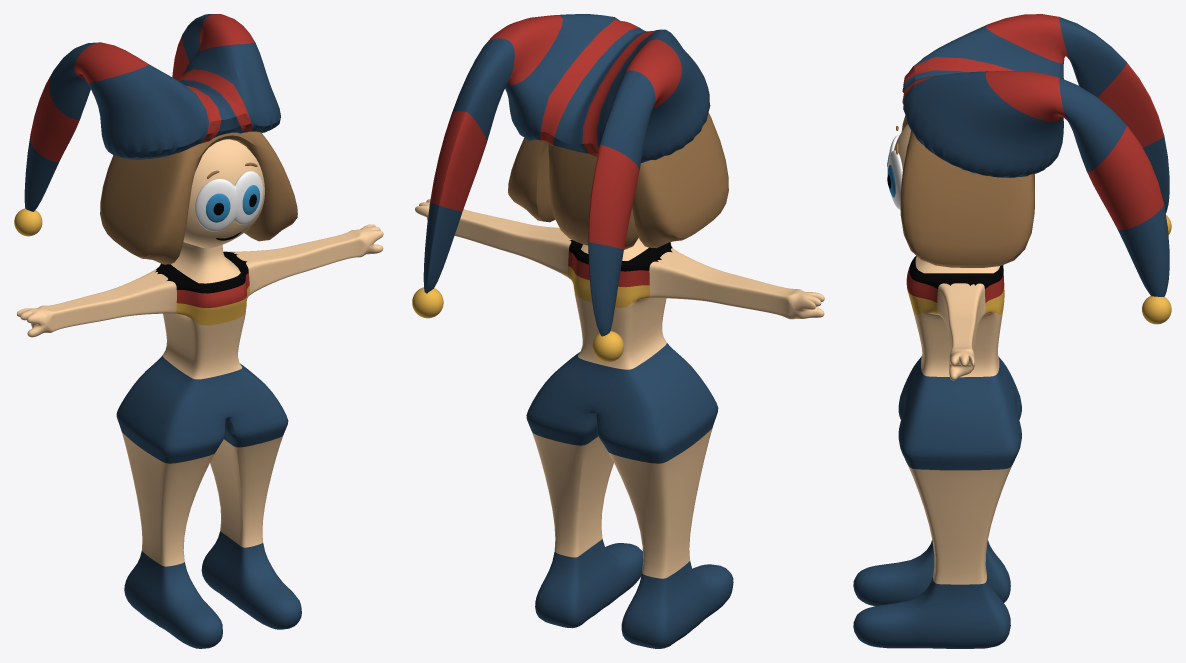
The model's file is Outono Beach.fbx.
3 views of the same model, side by side, from view 1: azimuth 30°, elevation 25°; view 2: azimuth 150°, elevation 25°; view 3: azimuth 270°, elevation 25° (orthographic). The views are drawn at different scales.
Visible parts, largest first — view 1: Body; view 2: Body; view 3: Body.
Boxes of the visible parts, x1,y1,x2,y2 form: Body: [14, 14, 383, 648]; Body: [412, 14, 824, 648]; Body: [853, 14, 1171, 648].
Size of the model in its own units: 278 by 406 by 202.
